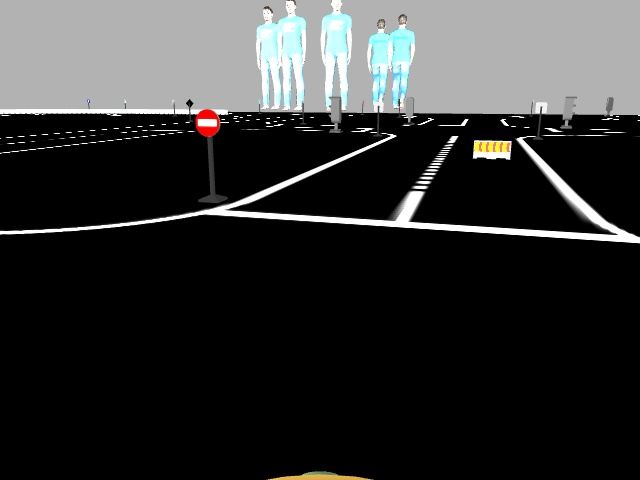ClosedRoadStand: (473, 141, 509, 159)
NoEntry: (195, 108, 220, 139)
